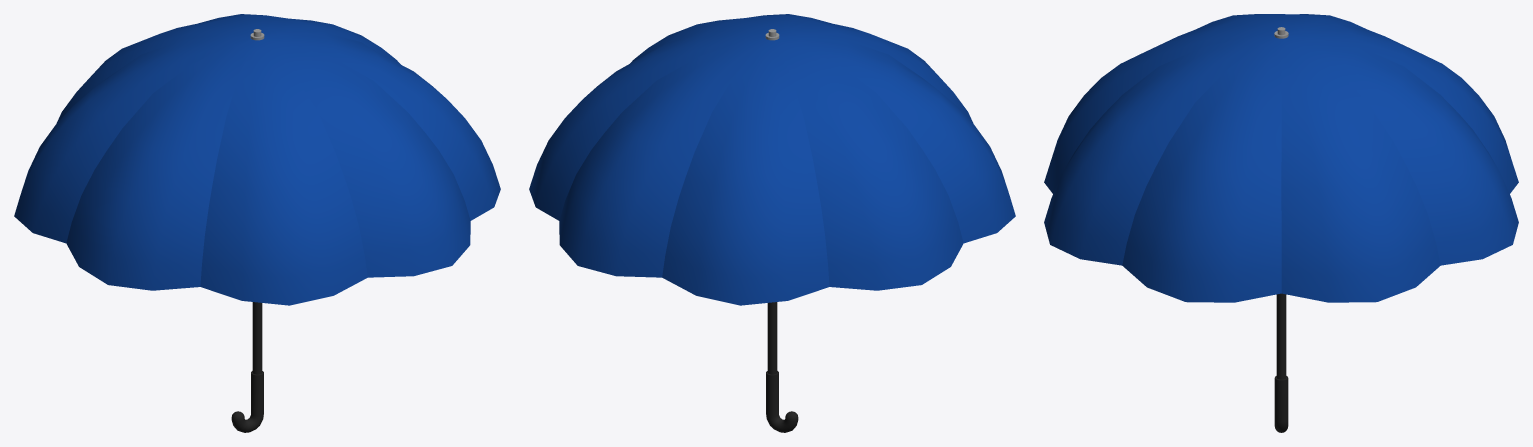
Rendered from umbrella.glb.
3 renders of one model, left to right at view 1: azimuth 30°, elevation 25°; view 2: azimuth 150°, elevation 25°; view 3: azimuth 270°, elevation 25°, orthographic. The views are drawn at different scales.
Parts seen in each view (by area): view 1: Circle.1779; view 2: Circle.1779; view 3: Circle.1779.
Boxes of the visible parts, x1,y1,x2,y2 form: Circle.1779: (14, 14, 500, 432); Circle.1779: (529, 14, 1015, 432); Circle.1779: (1044, 14, 1518, 432).
Bounding box in the file's own units: 2.28 × 2.16 × 2.28.
1 material, 1 textured.
